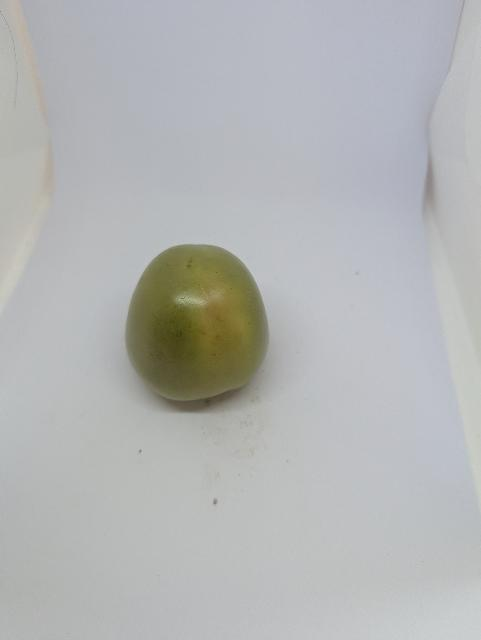green: (103, 224, 292, 427)
